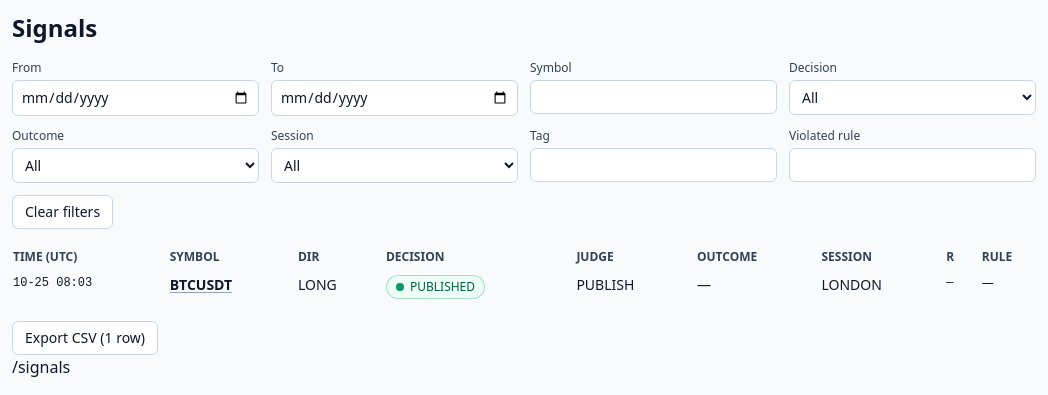
Test: SignalsPage › writes a changed filter to the URL and fetches a fresh first page
Expected: the link "BTCUSDT" is shown, [170,275,232,294]
Select "VETOED" in the dropdown labelled "Decision" at [912, 98], box [789,80,1036,115]
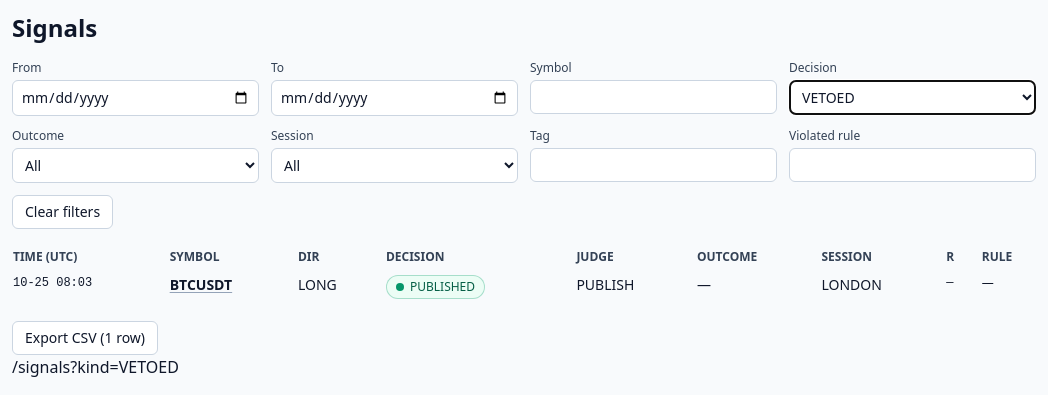
Now the text with test id "where" reads "/signals?kind=VETOED", box [12,356,179,378]
